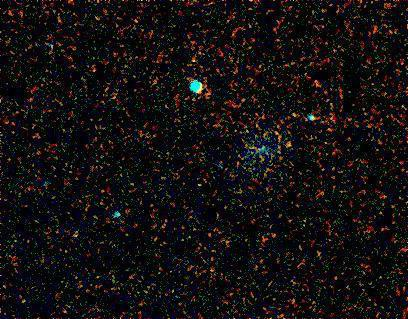star: (179, 49, 209, 79)
